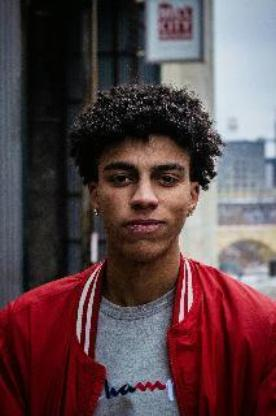person: (7, 75, 276, 415)
